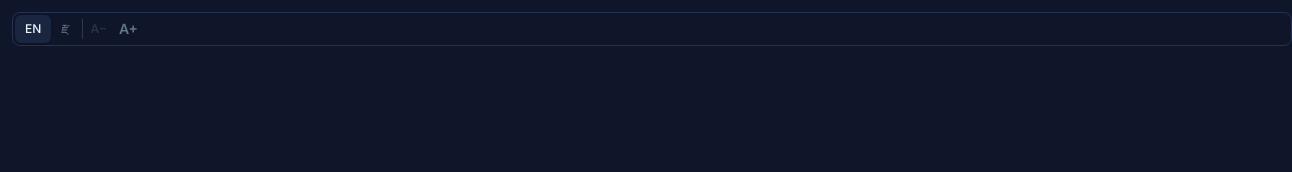
app LanguageToggle › supports three bounded font sizes
Click the button named "Increase font size". click: (128, 29)
box: x1=113 y1=15 x2=144 y2=43
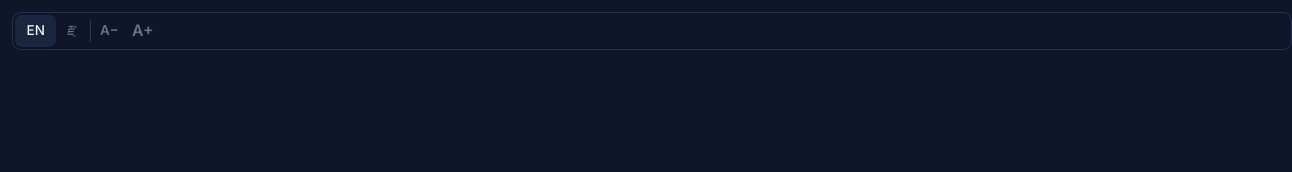
Click the button named "Increase font size". click: (143, 31)
box: x1=125 y1=15 x2=160 y2=47
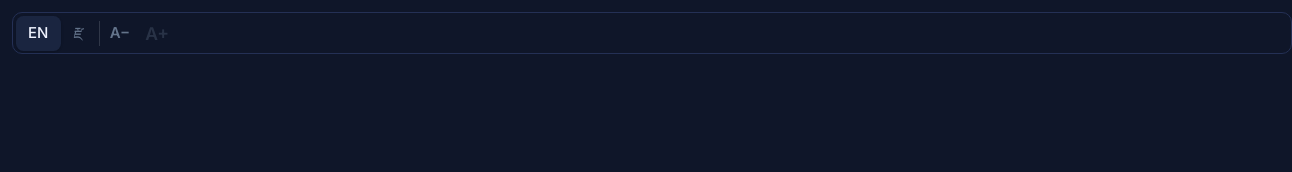
Result: the button named "Increase font size" is disabled at x1=138 y1=16 x2=176 y2=50
